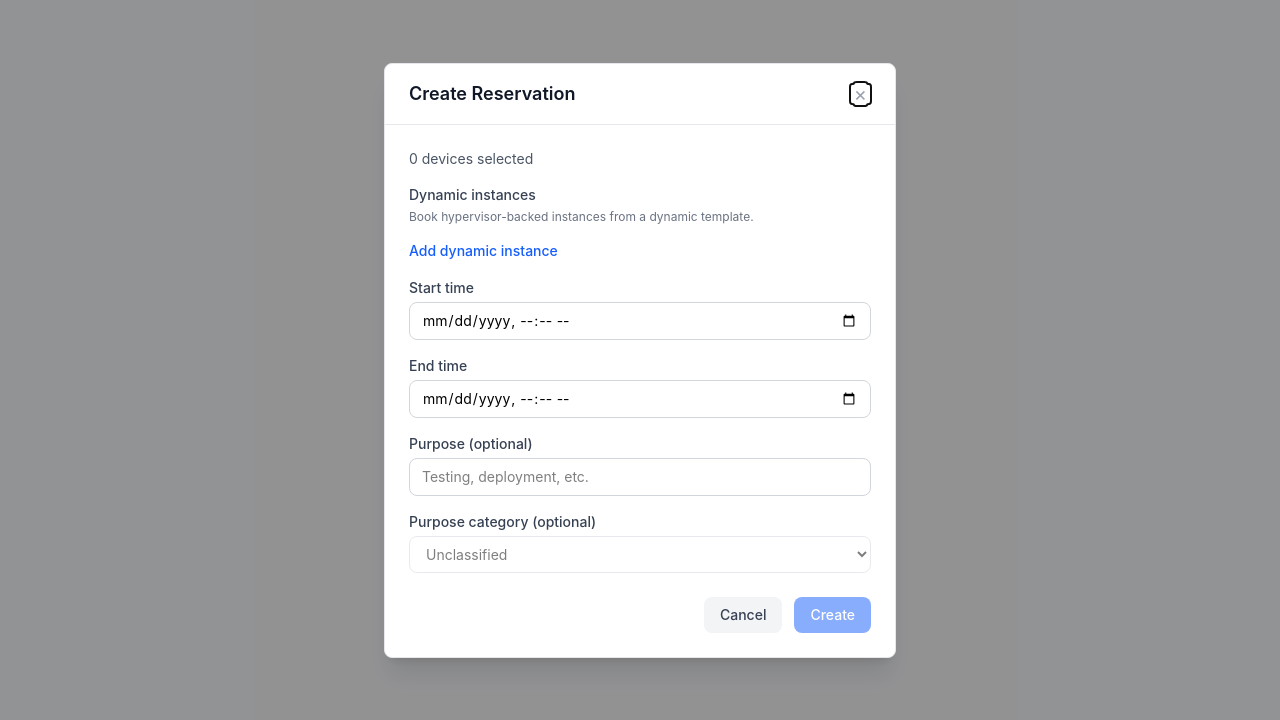
CreateReservationModal › disables Create and warns when the total dynamic requests exceed 50
Click the button "Add dynamic instance".
click(483, 250)  # box [409,240,558,260]
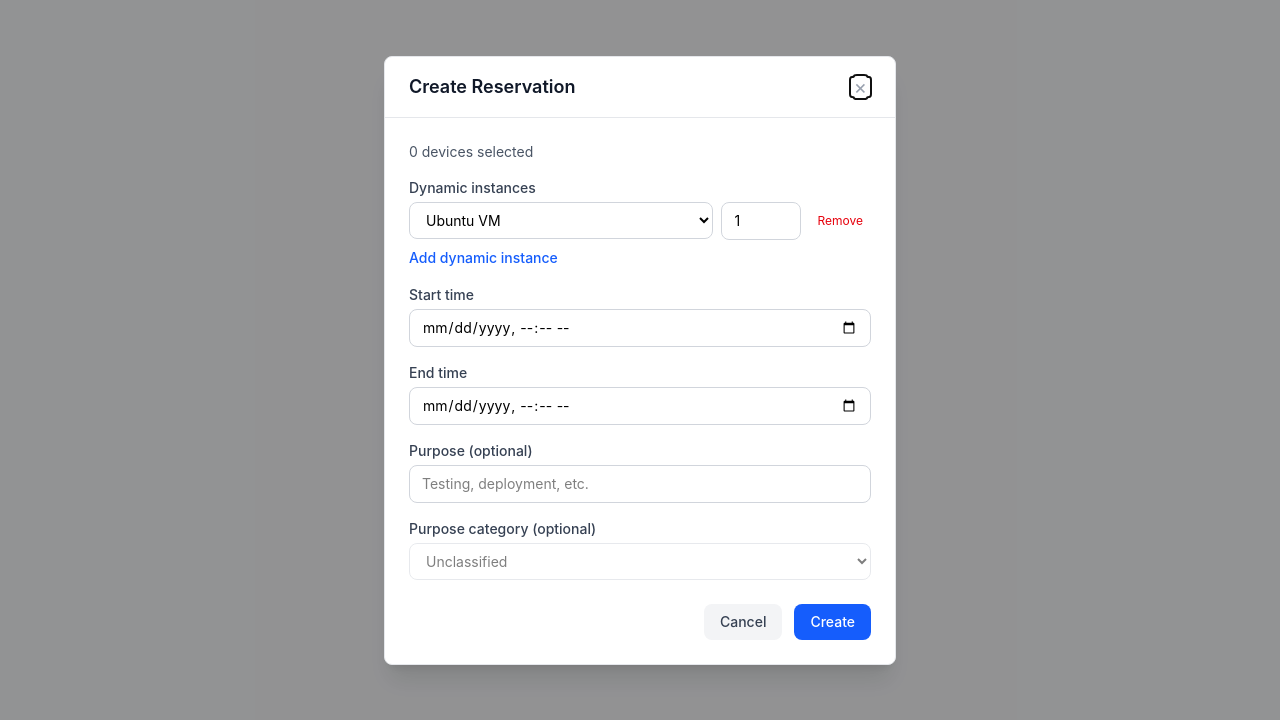
Replace the text in the number field named "Instance count 1" with "50" at (762, 220), box [722,202,802,240]
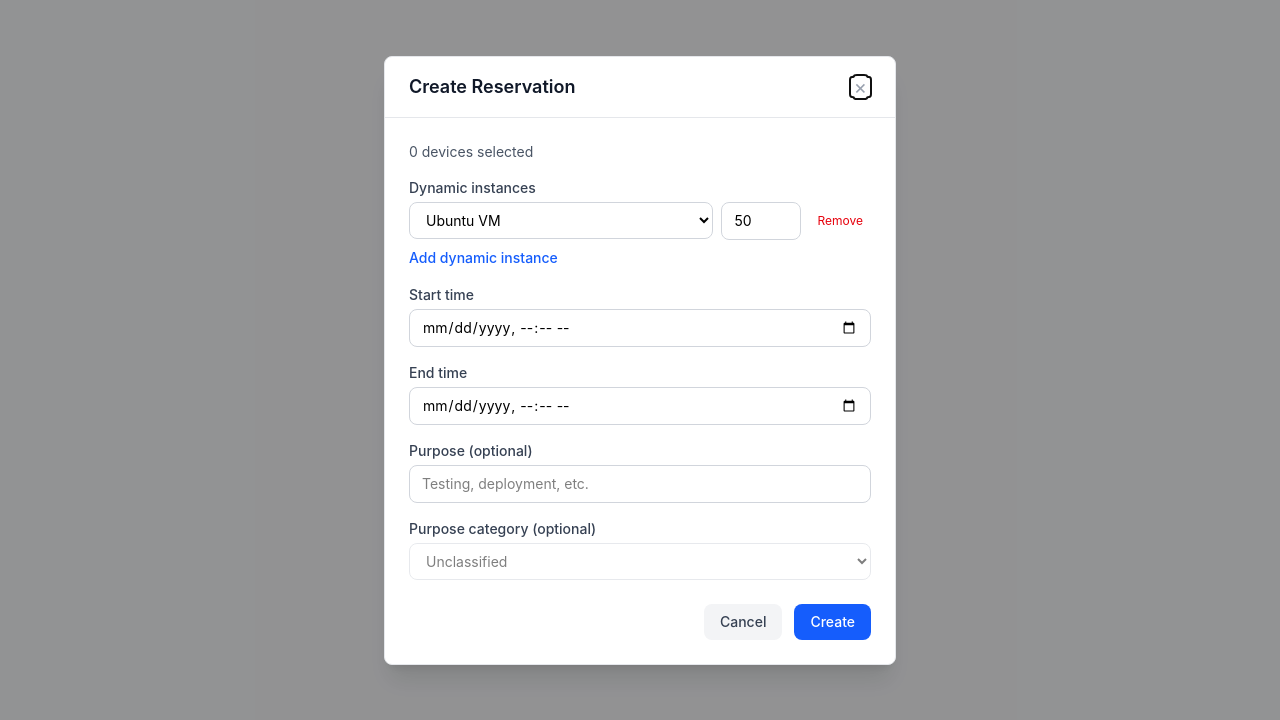
Click the button "Add dynamic instance".
click(483, 258)  # box [409,248,558,268]
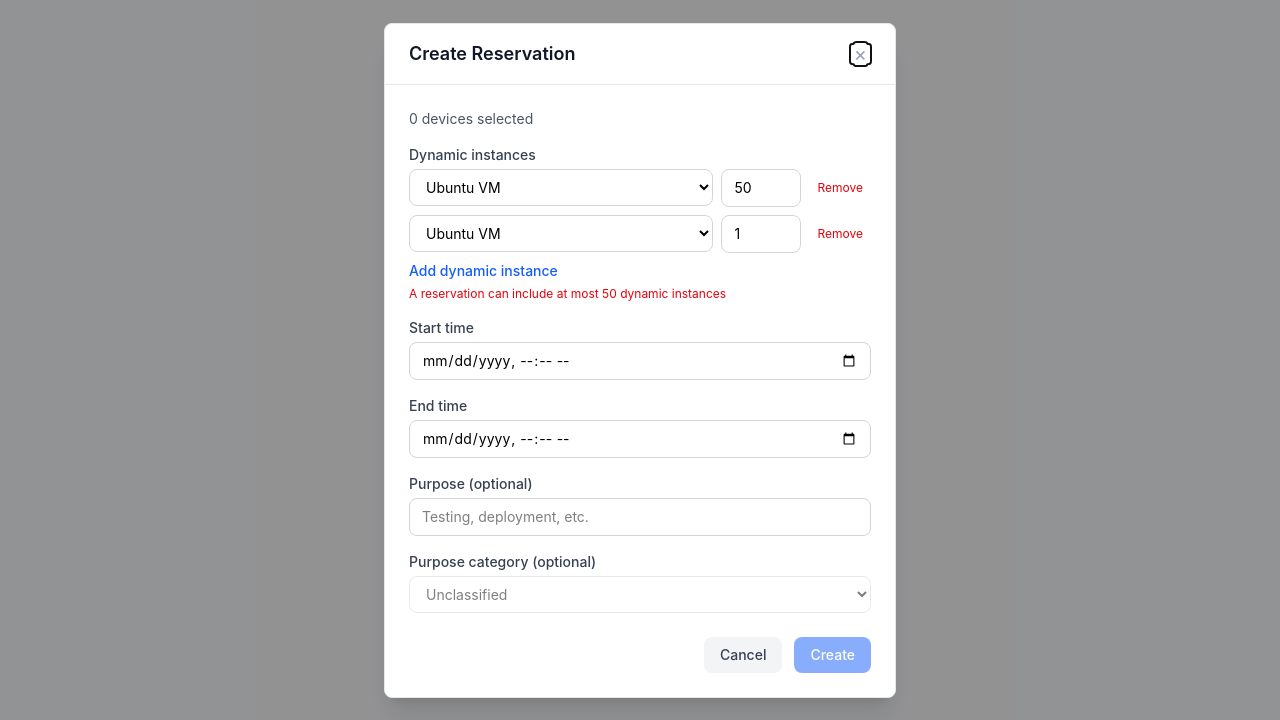
Now the message reads "A reservation can include at most 50 dynamic instances", box [409,286,726,300]
Now the button "Create" is disabled, box [794,636,871,672]
Replace the text in the number field named "Instance count 1" with "49" at (762, 188), box [722,168,802,206]
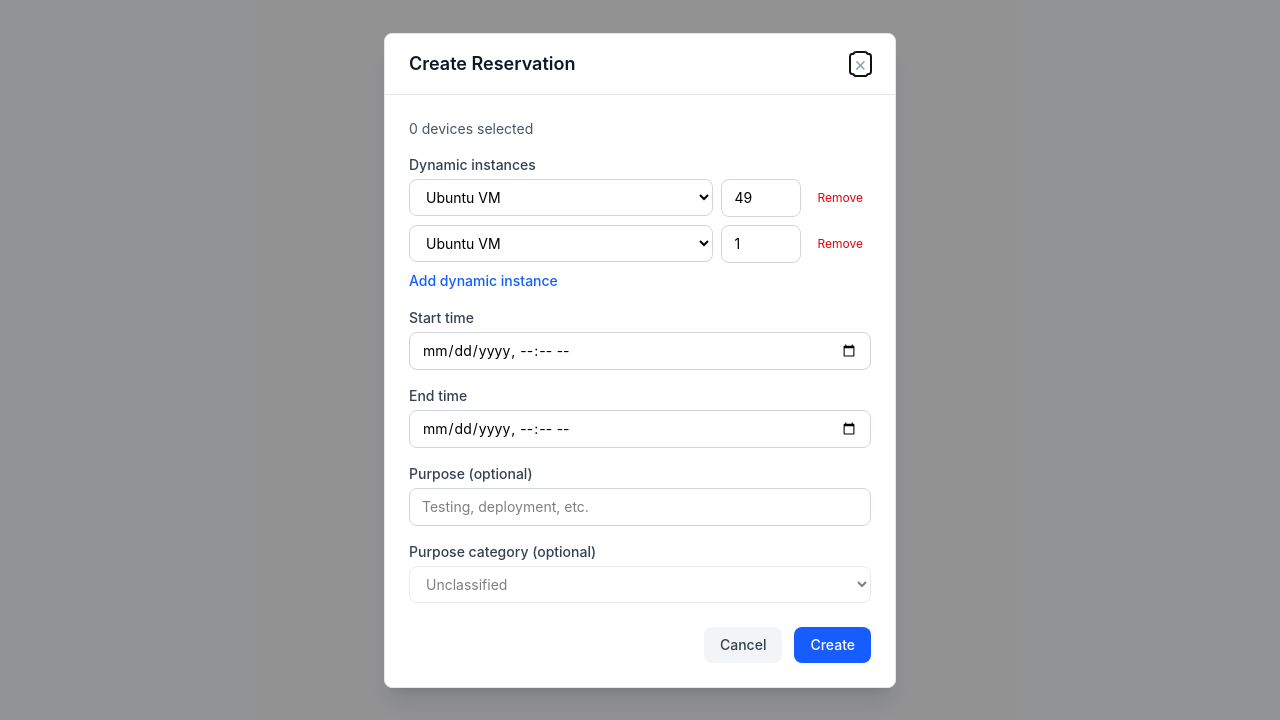
Now the message "A reservation can include at most 50 dynamic instances" is gone
Now the button "Create" is enabled, box [794,626,871,662]
